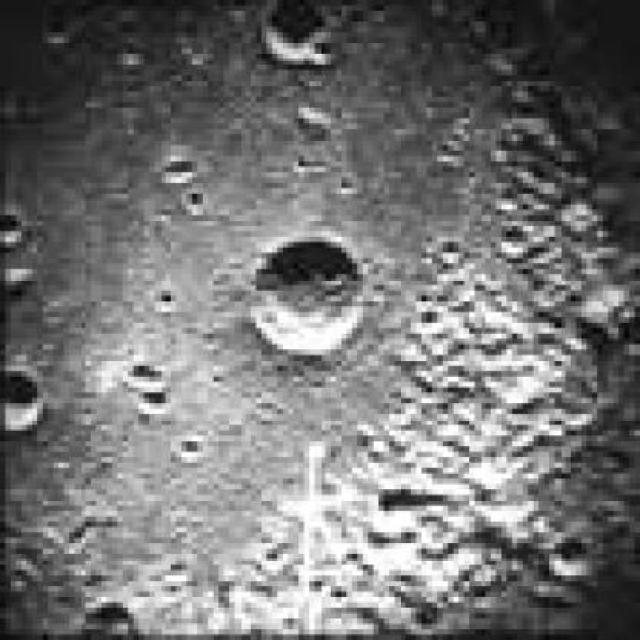crater: (256, 241, 364, 353), (265, 0, 337, 63), (0, 368, 42, 430), (81, 607, 137, 639), (0, 210, 23, 244), (312, 34, 338, 58)
